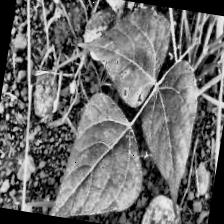ALS: (68, 2, 182, 116), (134, 194, 189, 224)
